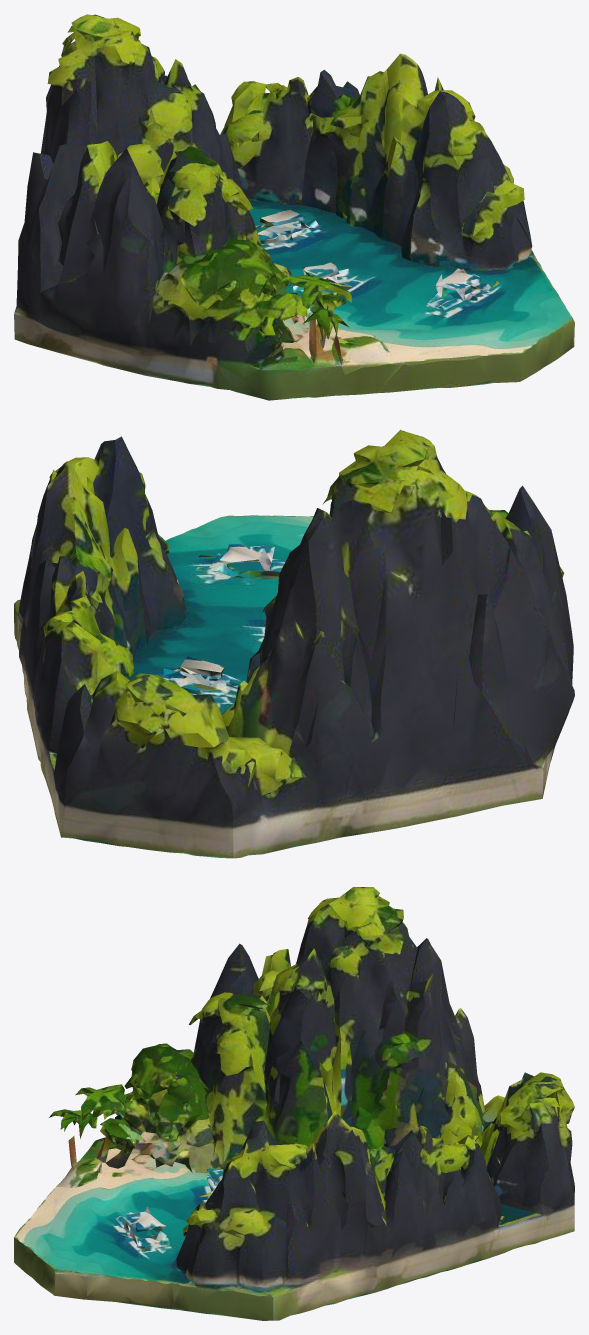
File: el-nido.glb
3 renders of one model, top to bottom at view 1: azimuth 30°, elevation 25°; view 2: azimuth 150°, elevation 25°; view 3: azimuth 270°, elevation 25°, orthographic. The views are drawn at different scales.
Visible parts, largest first — view 1: logan-textured.obj; view 2: logan-textured.obj; view 3: logan-textured.obj.
Boxes of the visible parts, x1=… form: logan-textured.obj: x1=14, y1=14, x2=574, y2=400; logan-textured.obj: x1=14, y1=429, x2=574, y2=858; logan-textured.obj: x1=14, y1=887, x2=574, y2=1320.
Bounding box in the file's own units: 0.8984 × 0.5248 × 1.
1 material, 1 textured.
